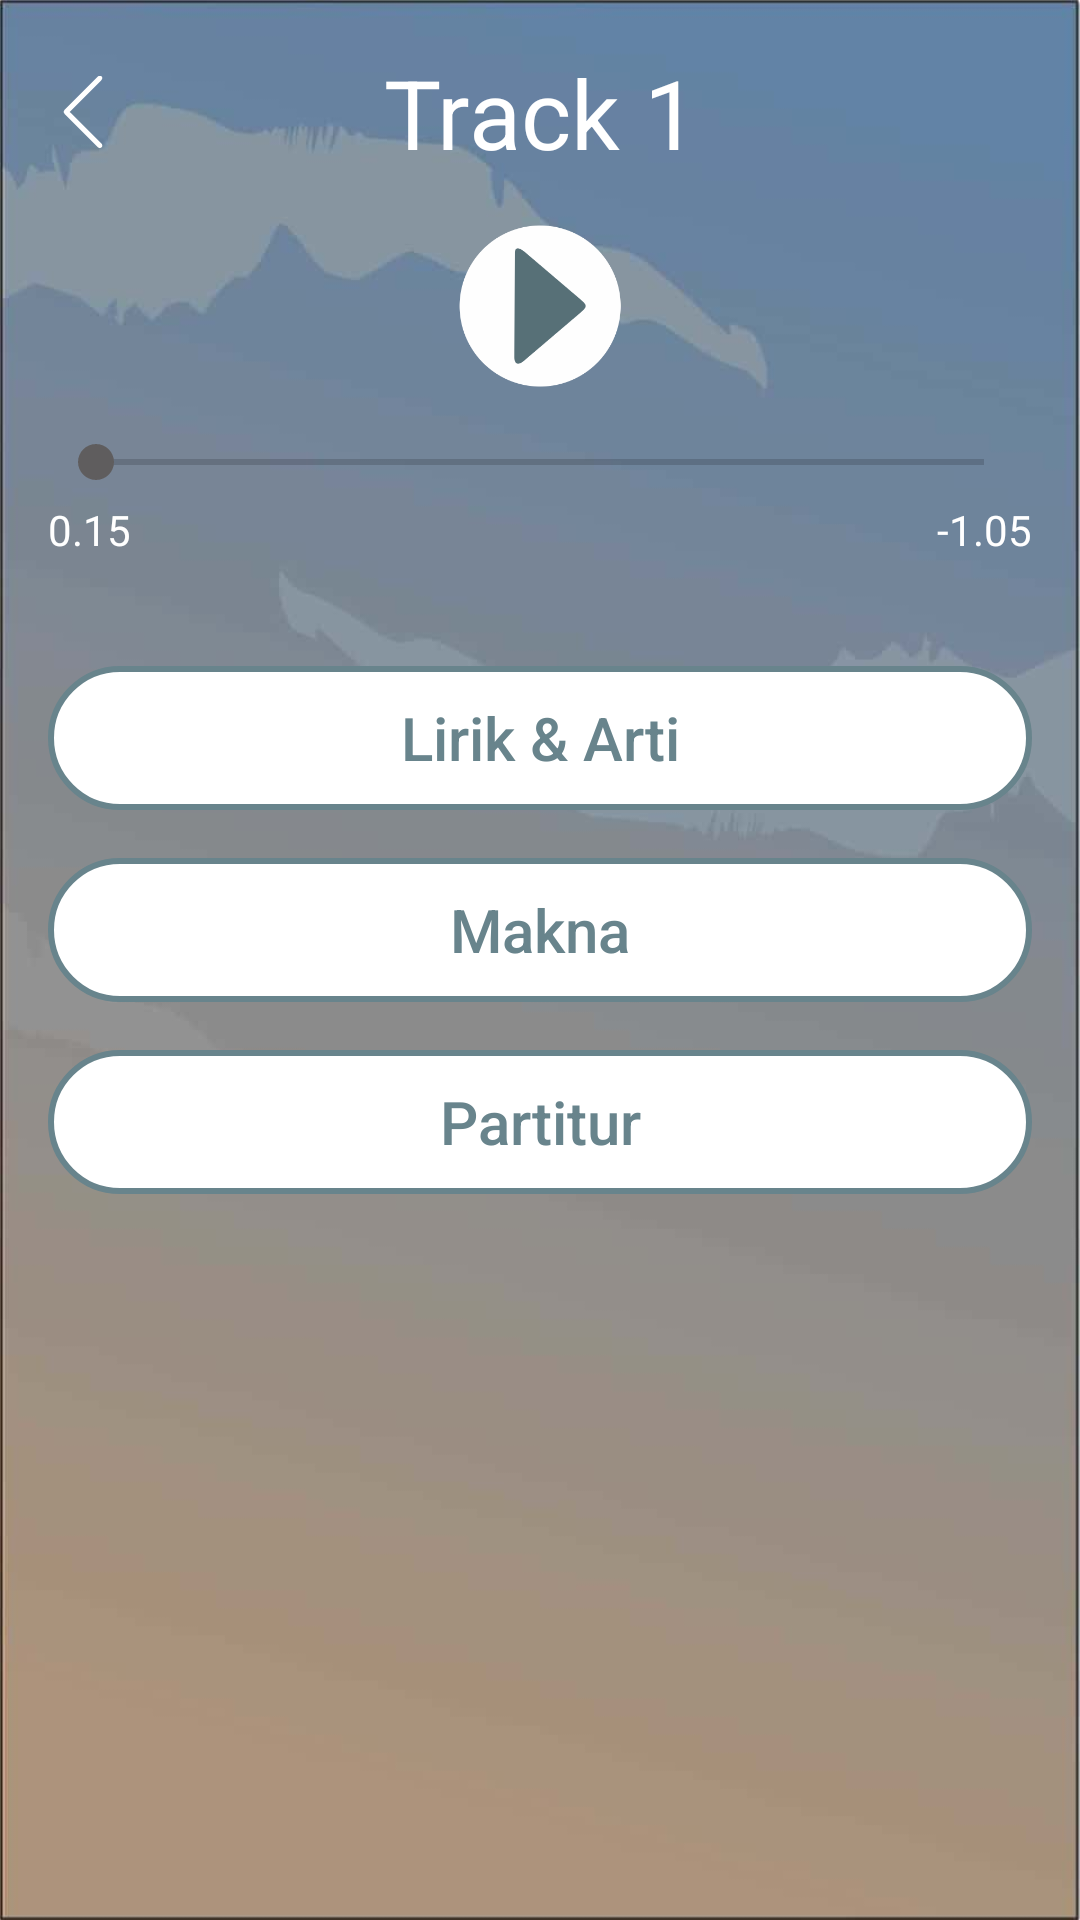

Named icons in this screenshot (1080 x 1920) and their centers, (x,y):
back: (83,112)
play: (540,306)
